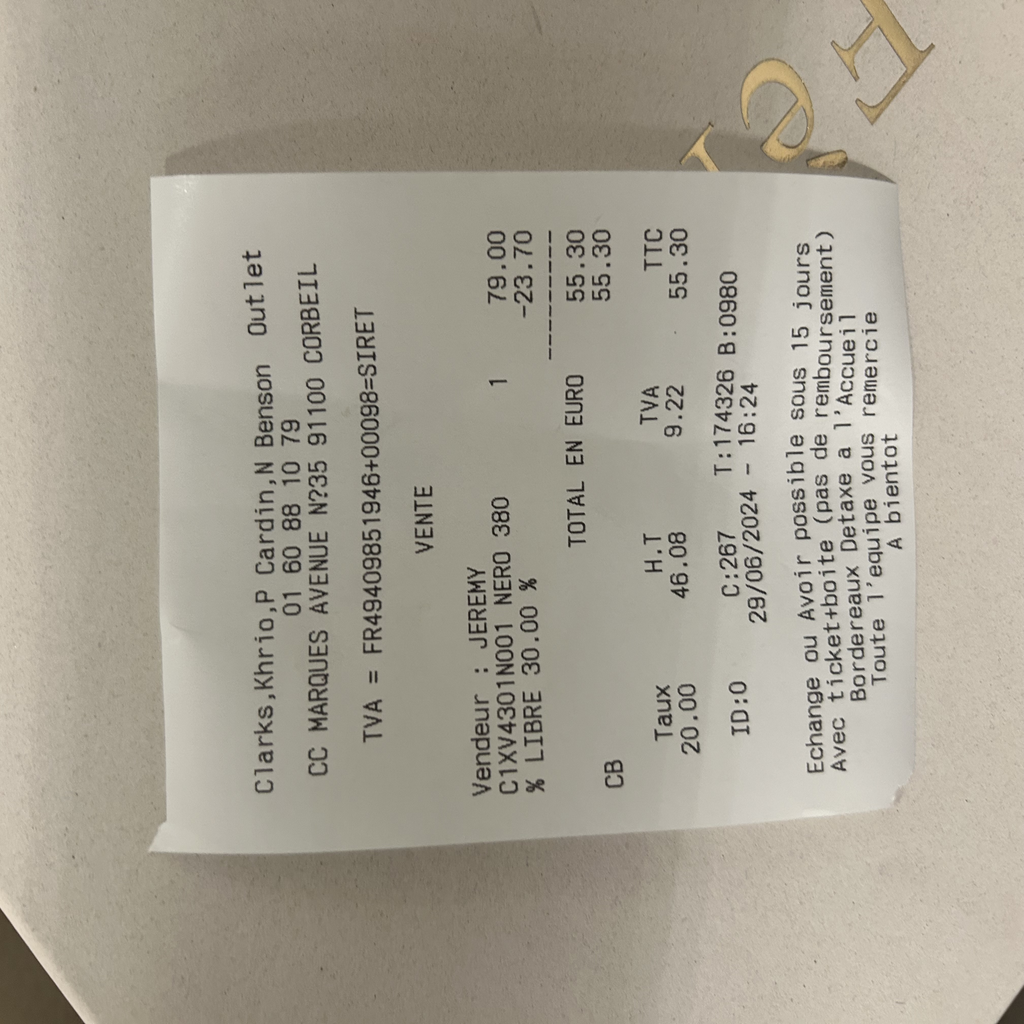recipt: (149, 174, 915, 852)
